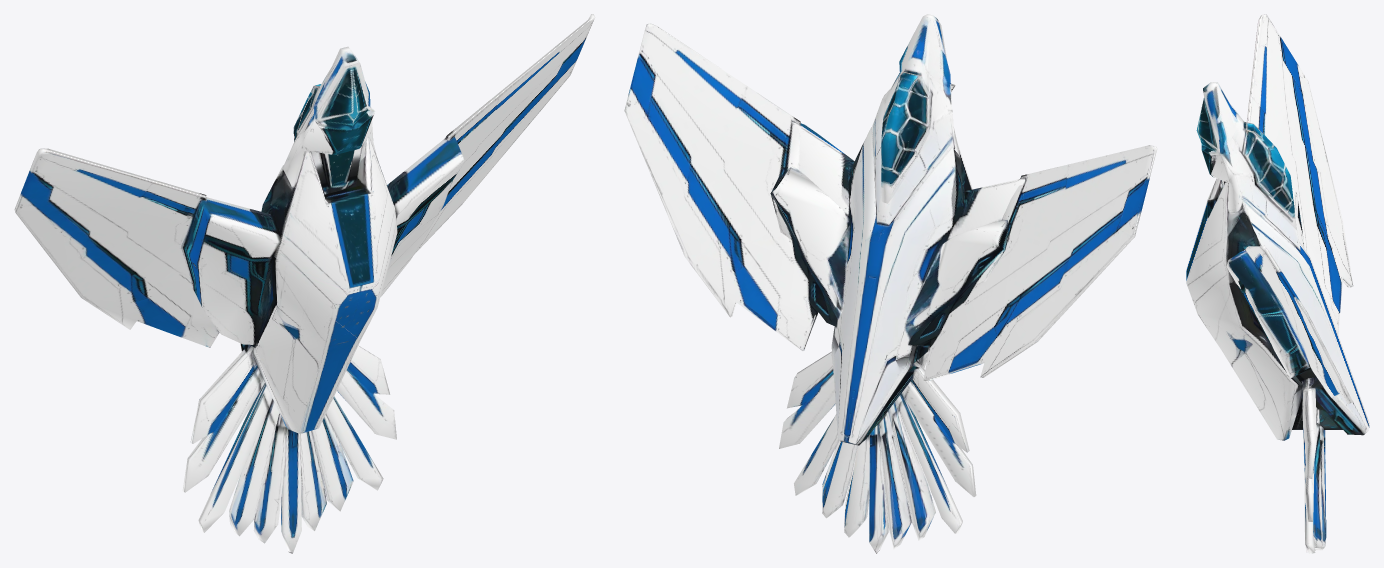
File: spiritus.glb
3 renders of one model, left to right at view 1: azimuth 30°, elevation 25°; view 2: azimuth 150°, elevation 25°; view 3: azimuth 270°, elevation 25°, orthographic. The views are drawn at different scales.
Bounding box in the file's own units: 1 × 0.9375 × 0.3311.
Materials: 1 (1 with a texture image).
